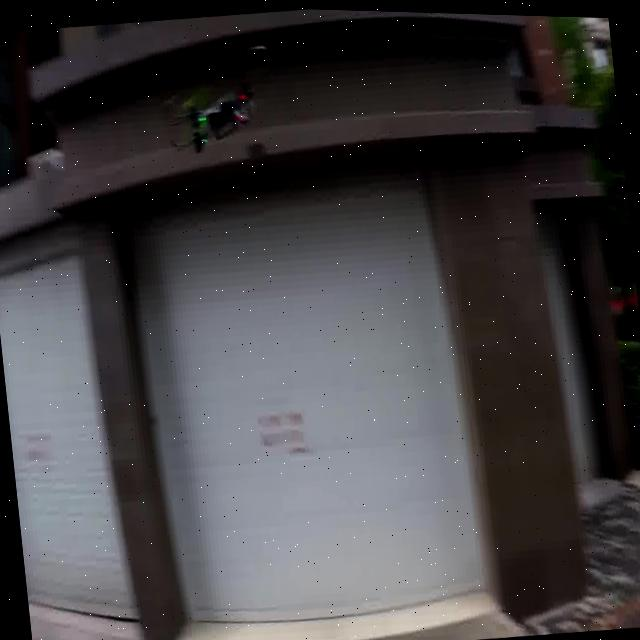drone: (152, 30, 280, 168)
